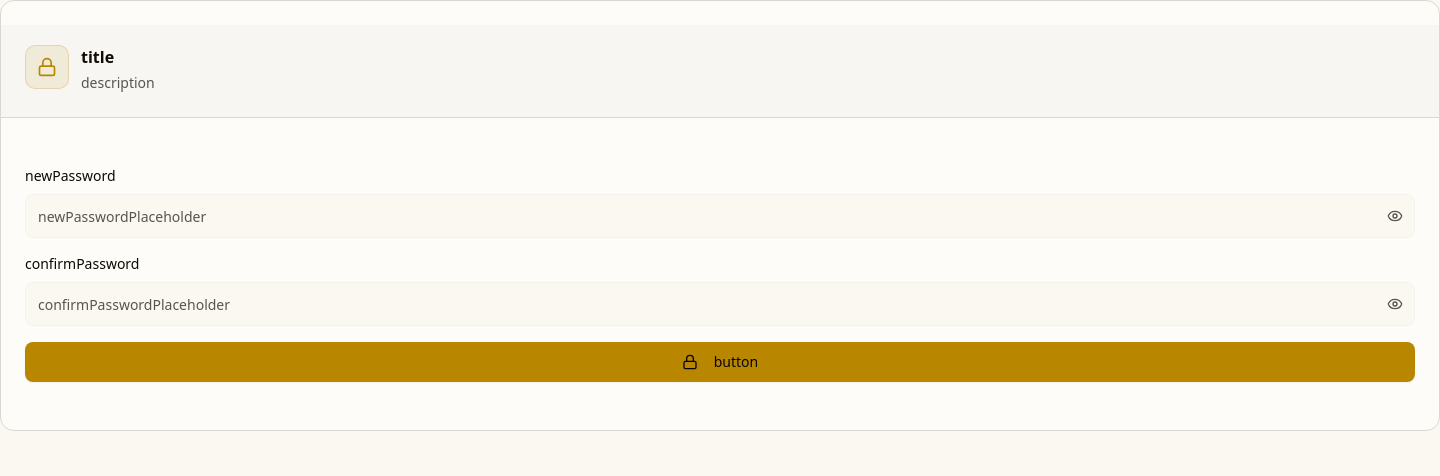
PasswordChangeCard › shows validation error for empty new password
Click the button "button" at (720, 362), box [25,342,1415,382]
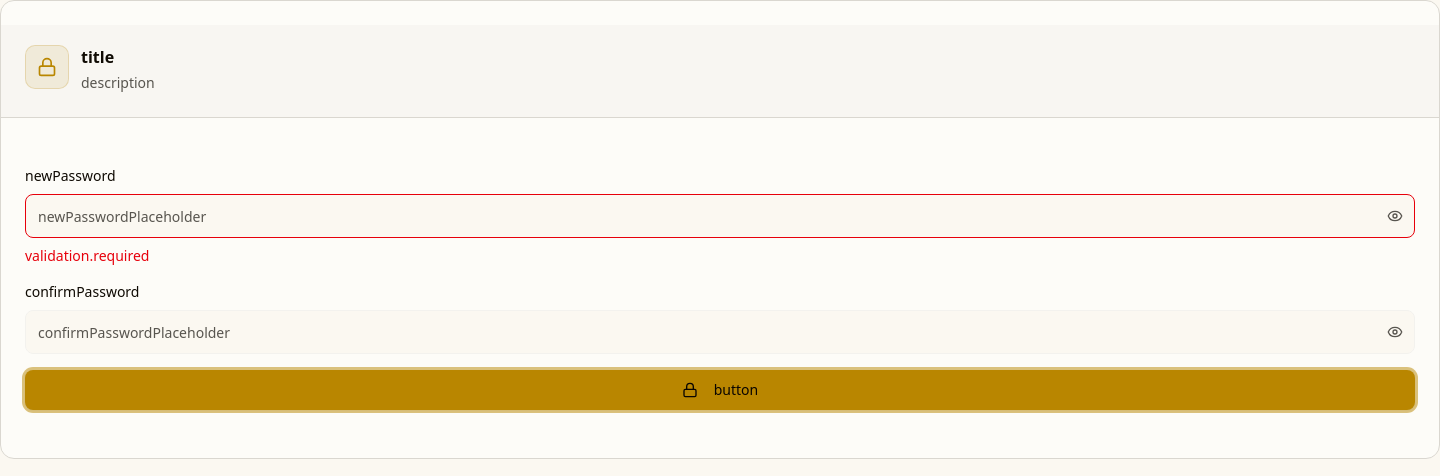
Expected: the text "validation.required" is shown, [25,246,150,265]
